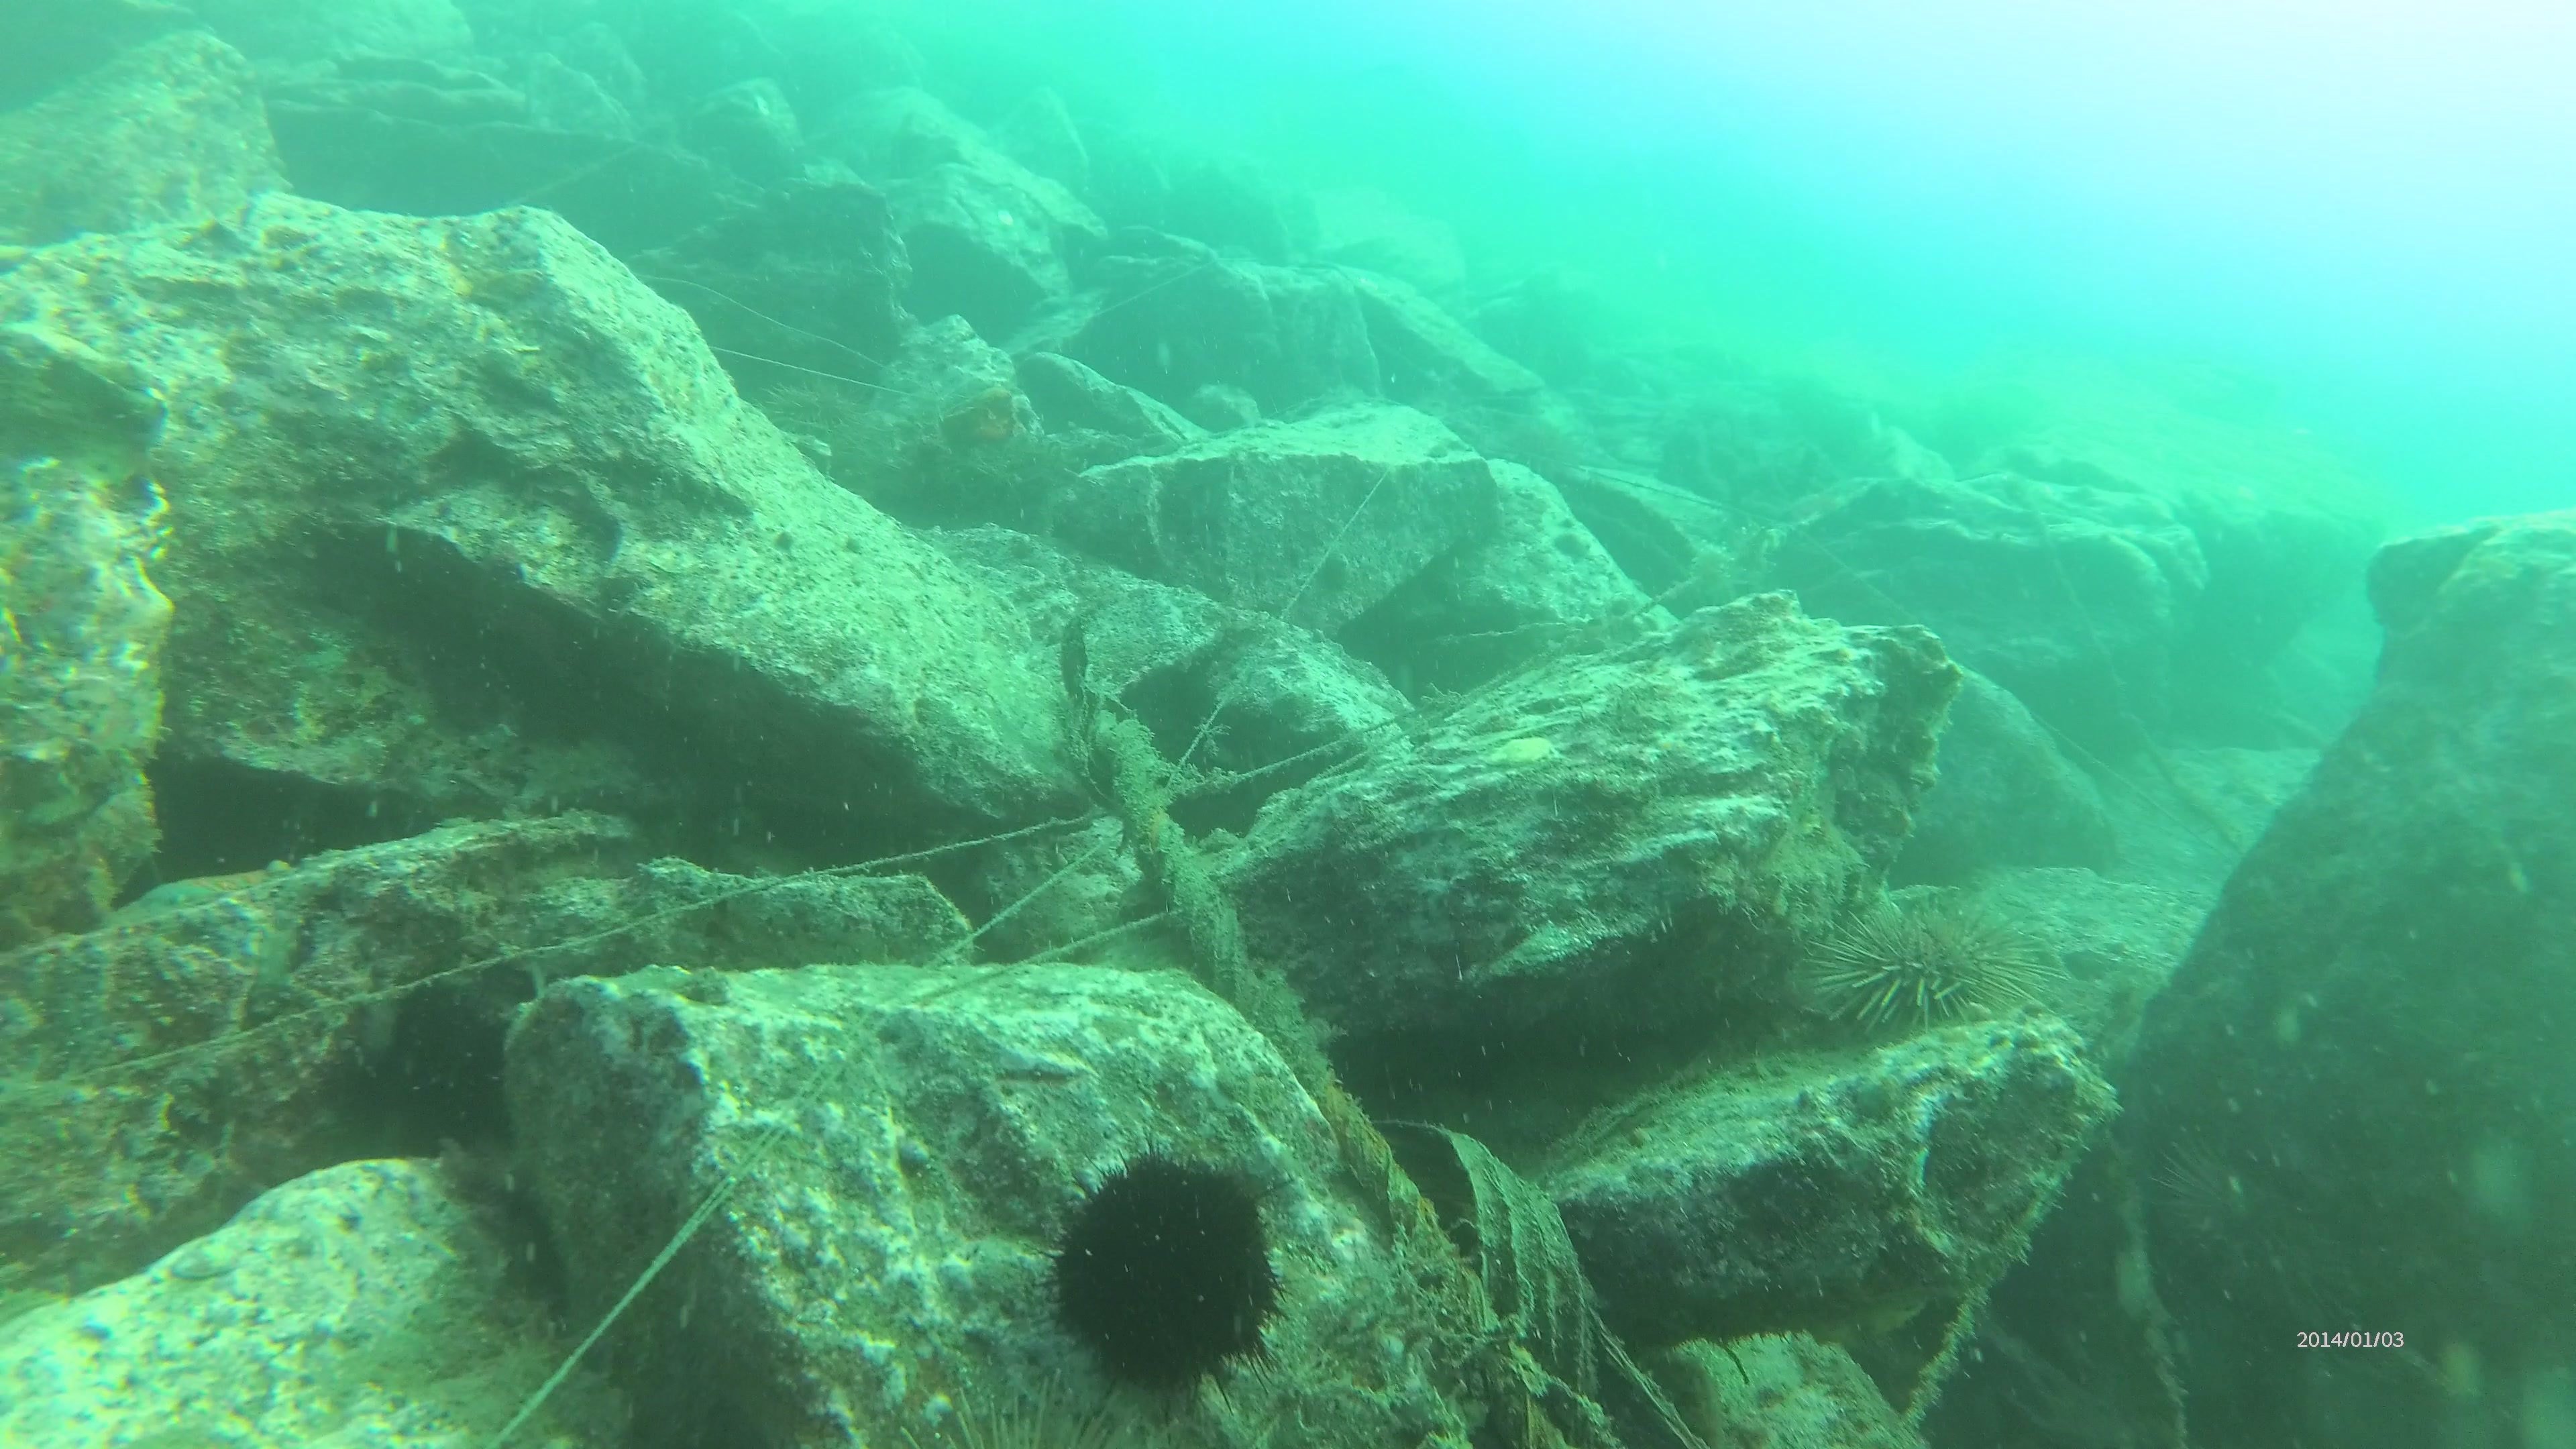echinus: (1016, 1123, 1297, 1426), (2144, 1116, 2365, 1327), (1808, 876, 2052, 1037), (901, 1389, 1196, 1449)
